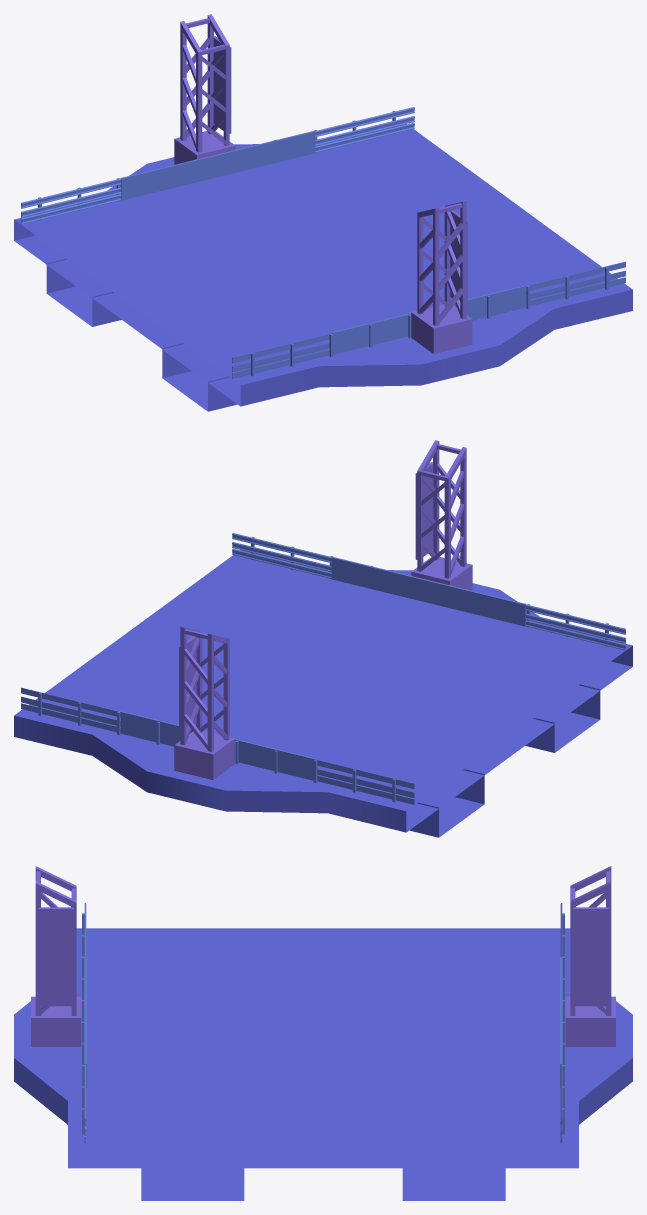
File: RoadCheckpoint.fbx
3 views of the same model, one above another, from view 1: azimuth 30°, elevation 25°; view 2: azimuth 150°, elevation 25°; view 3: azimuth 270°, elevation 25° (orthographic). The views are drawn at different scales.
Visible parts, largest first — view 1: RoadCheckpoint, RailingCheckpoint, RailingFinnhislineBoard.001; view 2: RoadCheckpoint, RailingCheckpoint, RailingFinnhislineBoard.001; view 3: RoadCheckpoint, RailingFinnhislineBoard.001, RailingCheckpoint.
Boxes of the visible parts, x1,y1,x2,y2 form: RoadCheckpoint: (14, 124, 632, 411); RailingCheckpoint: (21, 107, 625, 378); RailingFinnhislineBoard.001: (174, 14, 472, 353); RoadCheckpoint: (14, 550, 632, 837); RailingCheckpoint: (21, 533, 625, 804); RailingFinnhislineBoard.001: (174, 440, 472, 779); RoadCheckpoint: (14, 928, 632, 1200); RailingFinnhislineBoard.001: (31, 866, 615, 1046); RailingCheckpoint: (82, 903, 564, 1143).
Size of the model in its own units: 2004 by 942 by 2422.
